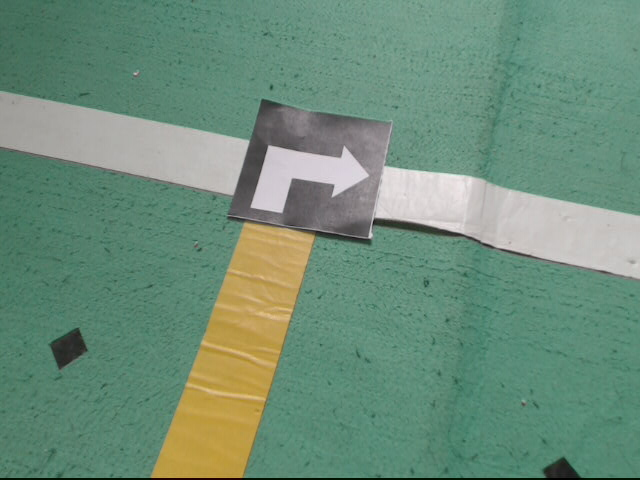right: (225, 100, 392, 241)
